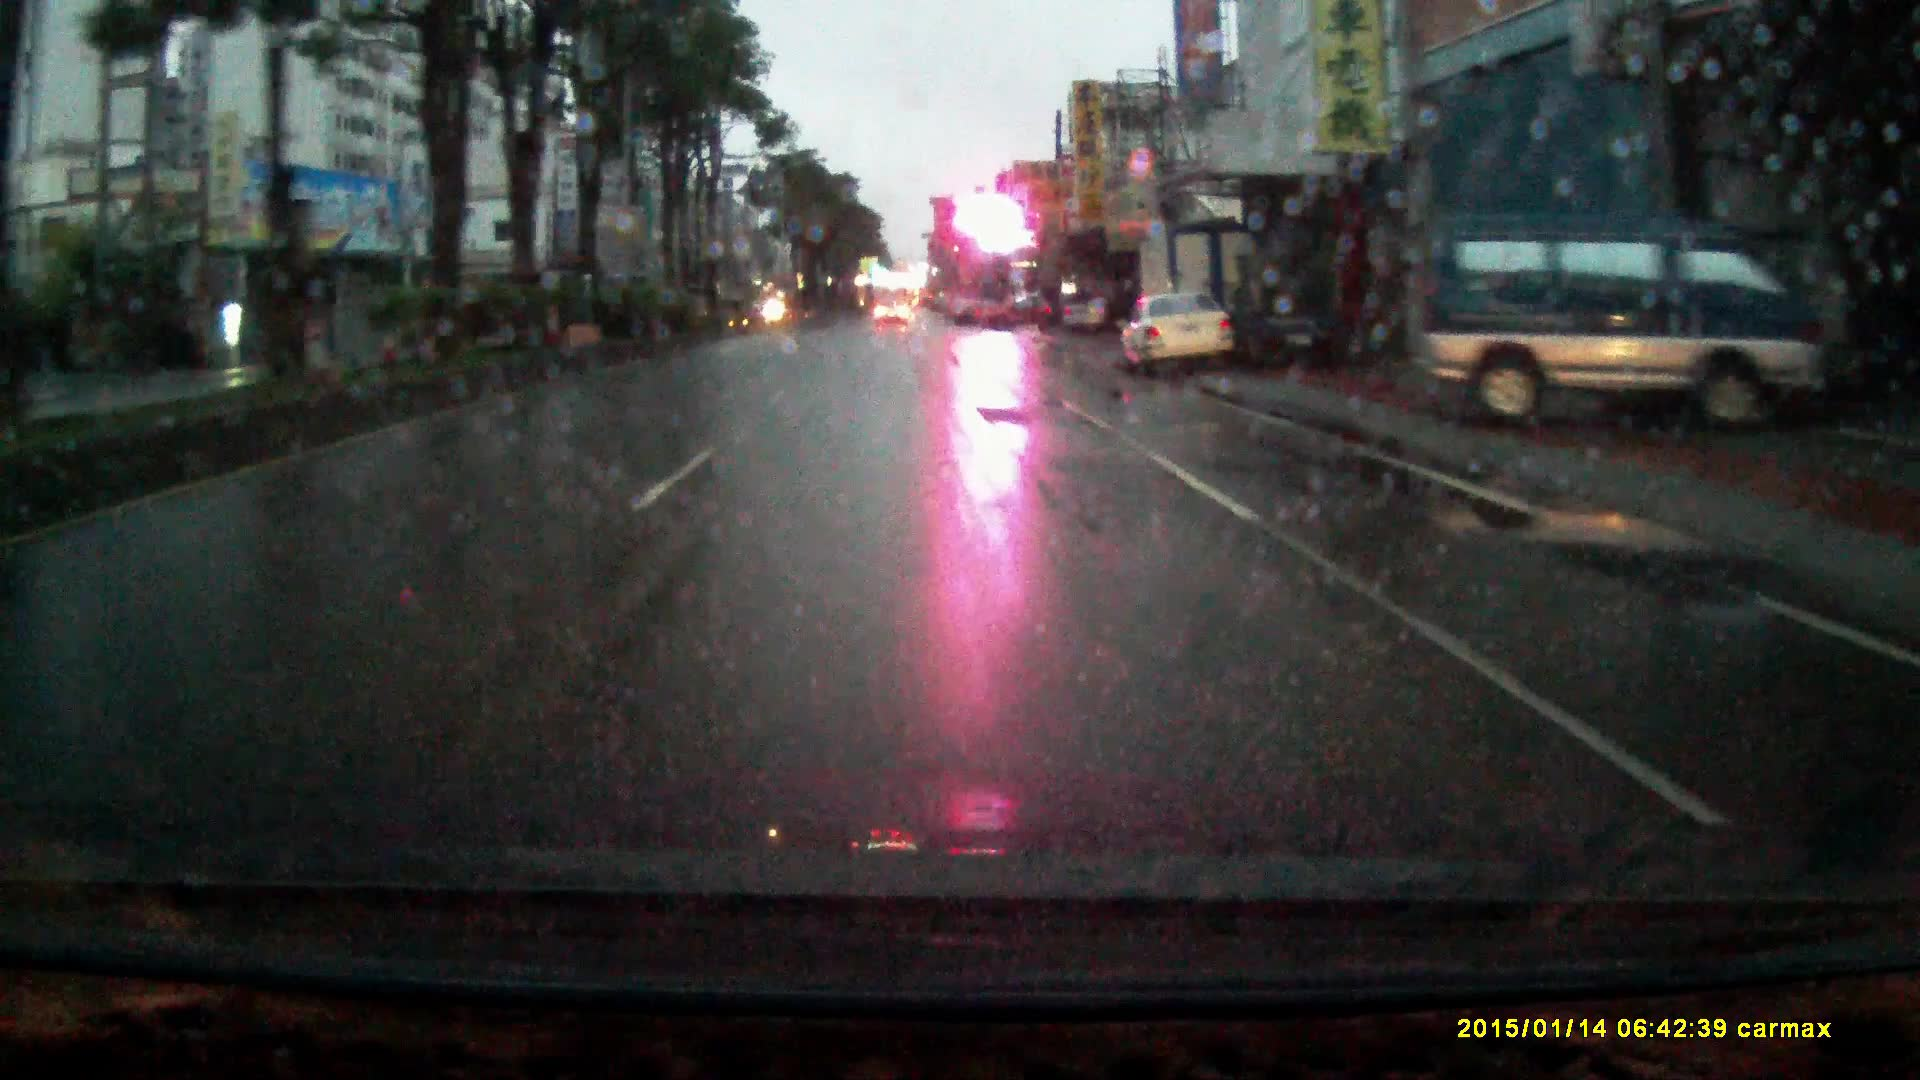vehicle: (1425, 208, 1812, 438), (1127, 223, 1274, 377), (1118, 287, 1244, 377), (977, 289, 1054, 331), (1051, 291, 1106, 335), (876, 298, 910, 328)
